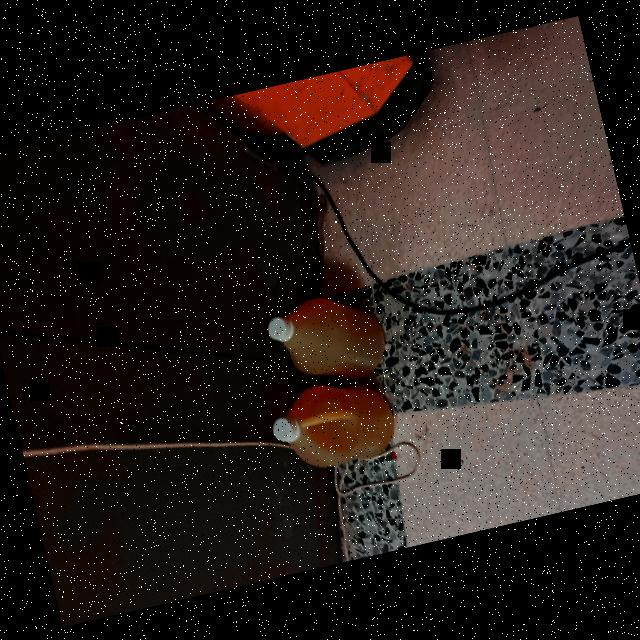chemical_plastic_gallon: (261, 368, 404, 477), (260, 282, 393, 398)
